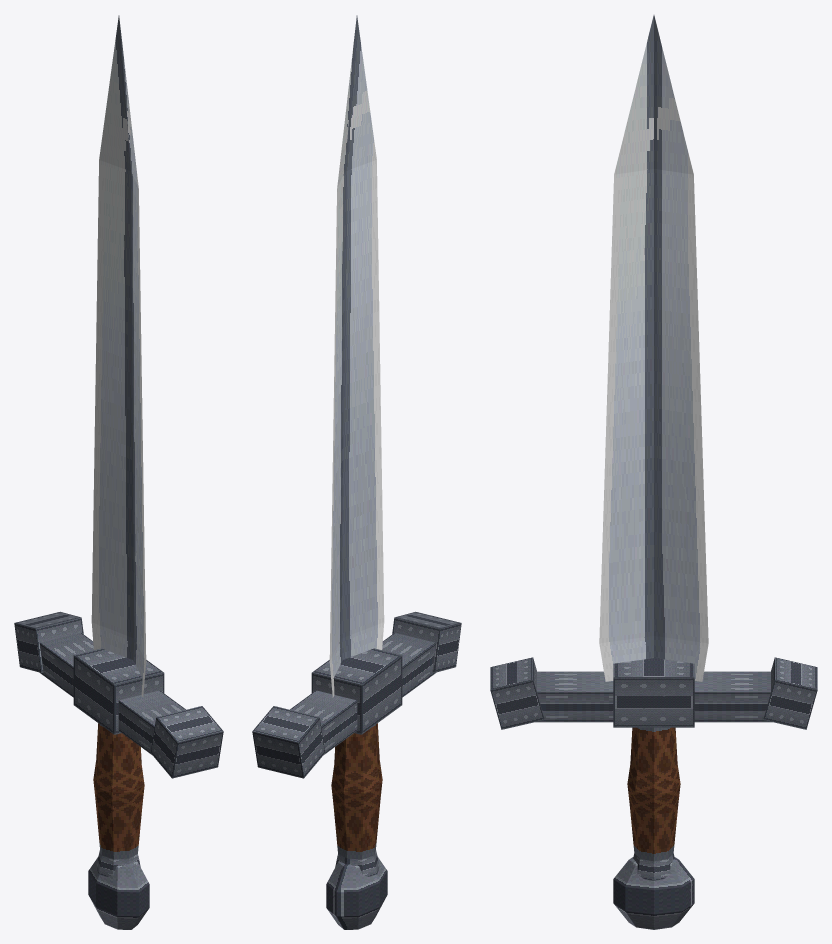
File: espada_de_prata.glb
3 renders of one model, left to right at view 1: azimuth 30°, elevation 25°; view 2: azimuth 150°, elevation 25°; view 3: azimuth 270°, elevation 25°, orthographic.
Visible parts, largest first — view 1: espada_de_prata; view 2: espada_de_prata; view 3: espada_de_prata.
Boxes of the visible parts, x1,y1,x2,y2 form: espada_de_prata: (14, 15, 223, 929); espada_de_prata: (252, 15, 461, 929); espada_de_prata: (490, 15, 817, 929).
Bounding box in the file's own units: 0.078 × 1.37 × 0.4435.
1 material, 1 textured.
